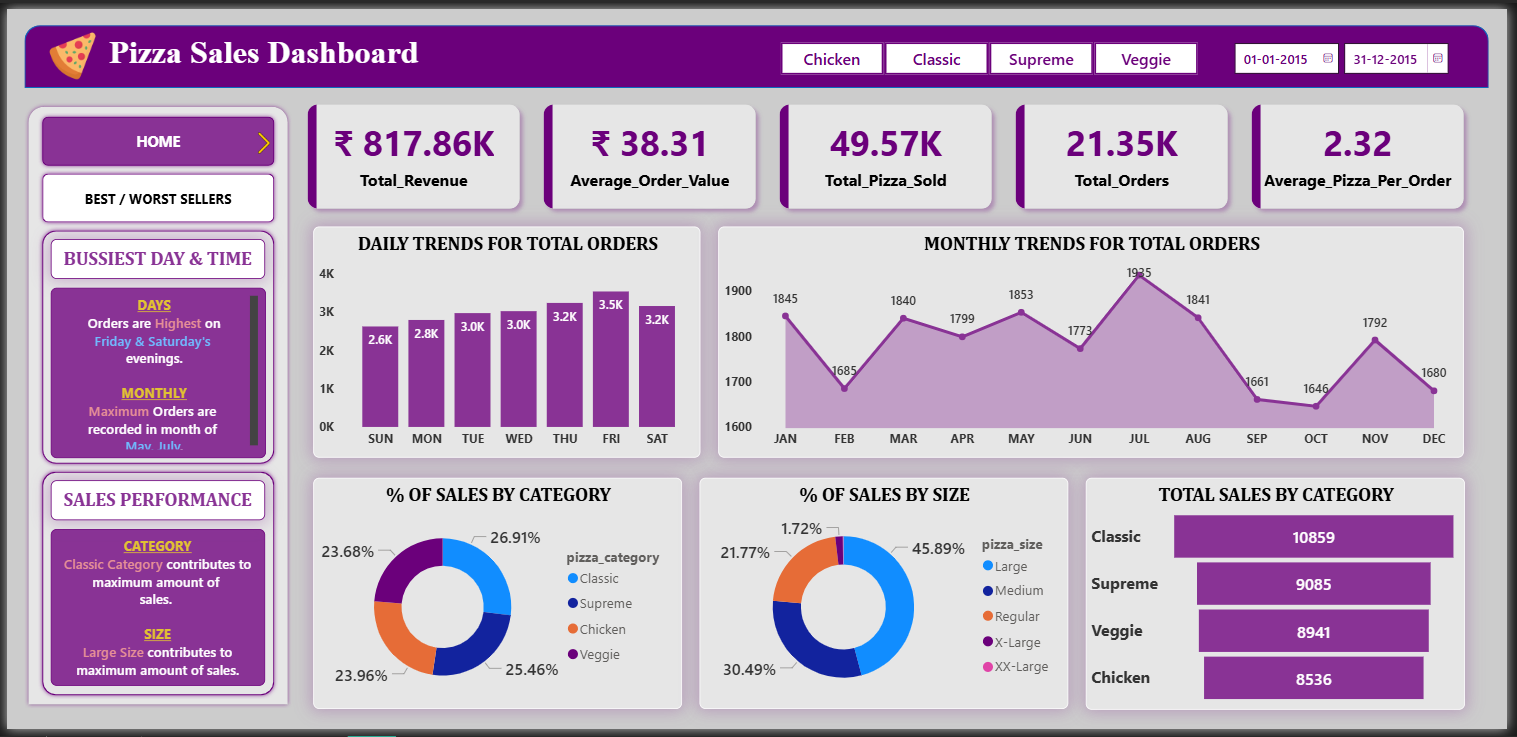

The dashboard page shown, as its layout file describes it:
{"tool":"powerbi","page":{"name":"HOME","canvas":[1500,720],"ordinal":0},"visuals":[{"type":"cardVisual","fields":{"Data":["public pizza_sales.Total_Revenue","public pizza_sales.Average_Order_Value","public pizza_sales.Total_Pizza_Sold","public pizza_sales.Total_Orders","public pizza_sales.Average_Pizza_Per_Order"]},"box":[283.3,79.2,1192.5,138.3],"z":0},{"type":"shape","box":[17.1,15.7,1464.3,62.9],"z":1000},{"type":"textbox","box":[88.8,20,336.2,53.8],"z":2000},{"type":"image","box":[31.2,22.5,68.8,48.8],"z":3000},{"type":"clusteredColumnChart","title":"DAILY TRENDS FOR TOTAL ORDERS","fields":{"Y":["public pizza_sales.Total_Orders"],"Category":["public pizza_sales.Short_Day_Name"]},"box":[306.2,217.5,387.5,231.2],"z":4000},{"type":"lineChart","title":"MONTHLY TRENDS FOR TOTAL ORDERS","fields":{"Y":["public pizza_sales.Total_Orders"],"Category":["public pizza_sales.Short_Month_Name"]},"box":[711.4,217.1,745.7,231.4],"z":5000},{"type":"donutChart","title":"% OF SALES BY CATEGORY","fields":{"Category":["public pizza_sales.pizza_category"],"Y":["public pizza_sales.Total_Revenue"]},"box":[305.7,468.6,368.6,231.4],"z":6000},{"type":"funnel","title":"TOTAL SALES BY CATEGORY","fields":{"Category":["public pizza_sales.pizza_category"],"Y":["public pizza_sales.Total_Orders"]},"box":[1078.2,468.2,379.1,231.8],"z":7000},{"type":"donutChart","title":"% OF SALES BY SIZE","fields":{"Category":["public pizza_sales.pizza_size"],"Y":["public pizza_sales.Total_Revenue"]},"box":[692.9,468.6,368.6,231.4],"z":8000},{"type":"shape","box":[17.1,94.3,267.1,605.7],"z":9000},{"type":"shape","box":[31.2,217.5,240,241.2],"z":12000},{"type":"shape","box":[31.4,458.6,240,231.4],"z":13000},{"type":"textbox","box":[44.3,230,214.3,40],"z":14000},{"type":"textbox","box":[43.8,278.8,215,170],"z":15000},{"type":"textbox","box":[44.3,520,214.3,157.1],"z":16000},{"type":"textbox","box":[44.3,471.4,214.3,40],"z":17000},{"type":"slicer","fields":{"Values":["public pizza_sales.order_date"]},"box":[1215,26,242,42],"z":18000},{"type":"slicer","fields":{"Values":["public pizza_sales.pizza_category"]},"box":[748,26,467,42],"z":19000},{"type":"pageNavigator","box":[31.1,103.3,240,114.4],"z":19001},{"type":"image","box":[246.4,120,21.4,28.6],"z":19002}]}

Visuals, with their boxes in screenshot pixels (x1, y1, x2, y2), scaled from the page's 1500x720 canvas onto the 1517x737 screenshot:
cardVisual - public pizza_sales.Total_Revenue x public pizza_sales.Average_Order_Value: 287/81/1493/223
shape: 17/16/1498/80
textbox: 90/20/430/76
image: 32/23/101/73
"DAILY TRENDS FOR TOTAL ORDERS" clusteredColumnChart: 310/223/702/459
"MONTHLY TRENDS FOR TOTAL ORDERS" lineChart: 719/222/1474/459
"% OF SALES BY CATEGORY" donutChart: 309/480/682/717
"TOTAL SALES BY CATEGORY" funnel: 1090/479/1474/717
"% OF SALES BY SIZE" donutChart: 701/480/1074/717
shape: 17/97/287/717
shape: 32/223/274/470
shape: 32/469/274/706
textbox: 45/235/262/276
textbox: 44/285/262/459
textbox: 45/532/262/693
textbox: 45/483/262/523
slicer - public pizza_sales.order_date: 1229/27/1474/70
slicer - public pizza_sales.pizza_category: 756/27/1229/70
pageNavigator: 31/106/274/223
image: 249/123/271/152
